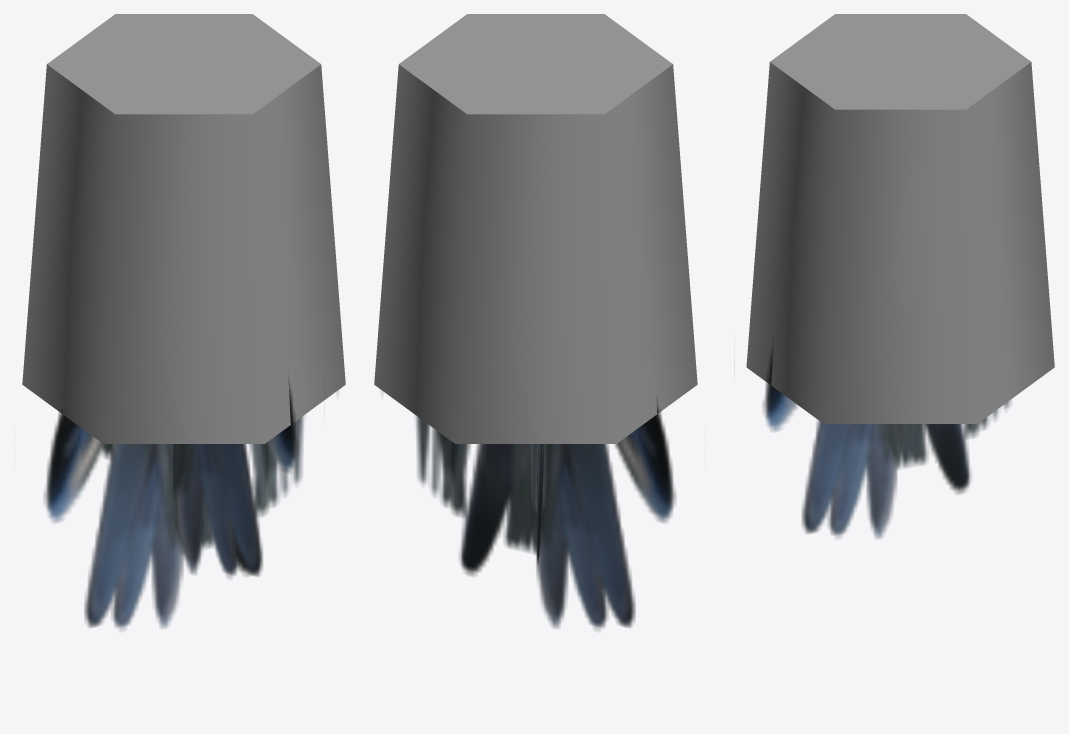
The model's file is Cutlery-col.glb.
The picture shows the model from 3 angles, left to right: view 1: azimuth 30°, elevation 25°; view 2: azimuth 150°, elevation 25°; view 3: azimuth 270°, elevation 25°; orthographic projection. The views are drawn at different scales.
Parts seen in each view (by area): view 1: Cutlery-col; view 2: Cutlery-col; view 3: Cutlery-col.
Boxes of the visible parts, left/top/right/bottom form: Cutlery-col: left=22, top=14, right=345, bottom=630; Cutlery-col: left=374, top=14, right=697, bottom=630; Cutlery-col: left=746, top=14, right=1054, bottom=538.
Bounding box in the file's own units: 2.32 × 4.19 × 2.08.
2 materials, 2 textured.
